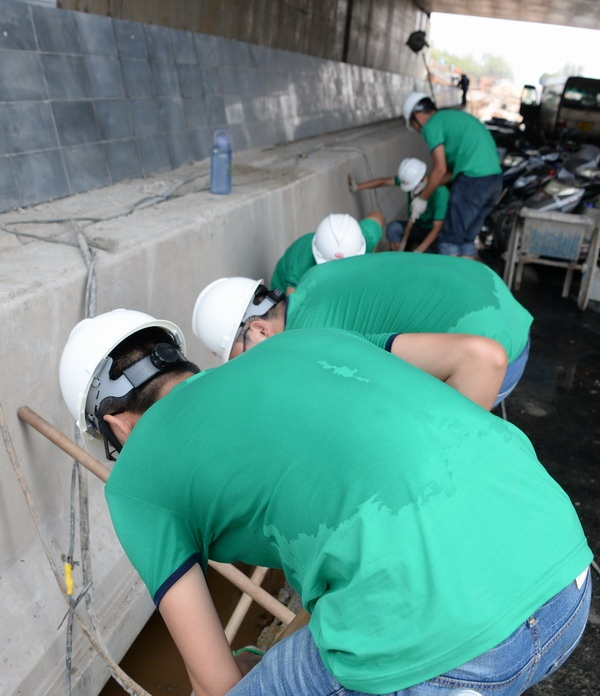white: (55, 304, 187, 446), (187, 269, 279, 355), (305, 211, 371, 267), (399, 87, 439, 131), (395, 159, 428, 198)
